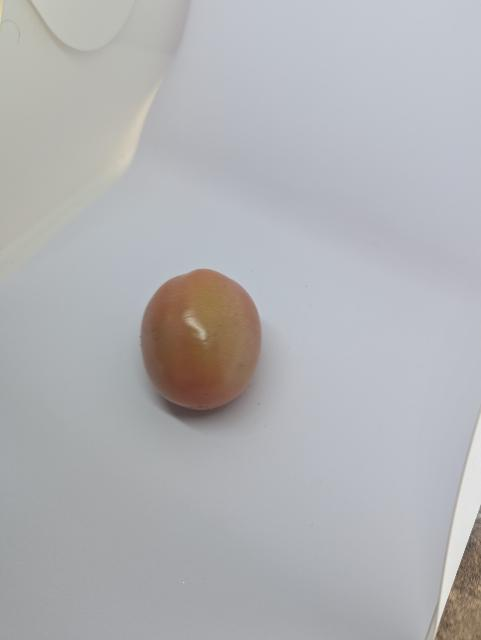turning: (136, 263, 269, 419)
